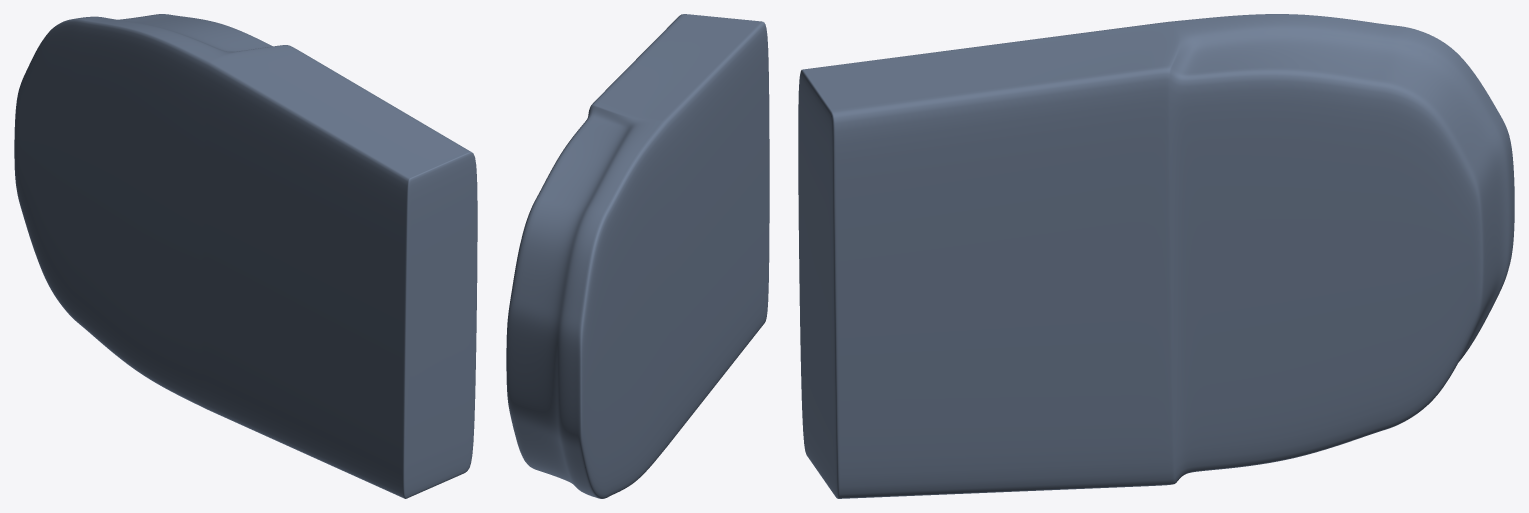
The picture shows the model from 3 angles, left to right: view 1: azimuth 30°, elevation 25°; view 2: azimuth 150°, elevation 25°; view 3: azimuth 270°, elevation 25°; orthographic projection. The views are drawn at different scales.
Visible parts, largest first — view 1: Cube.036; view 2: Cube.036; view 3: Cube.036.
Part boxes in pixels (x1,y1,x2,y2): Cube.036: (14,14,477,498); Cube.036: (506,14,769,498); Cube.036: (798,14,1514,498).
Bounding box in the file's own units: 0.0124 × 0.0227 × 0.035.
